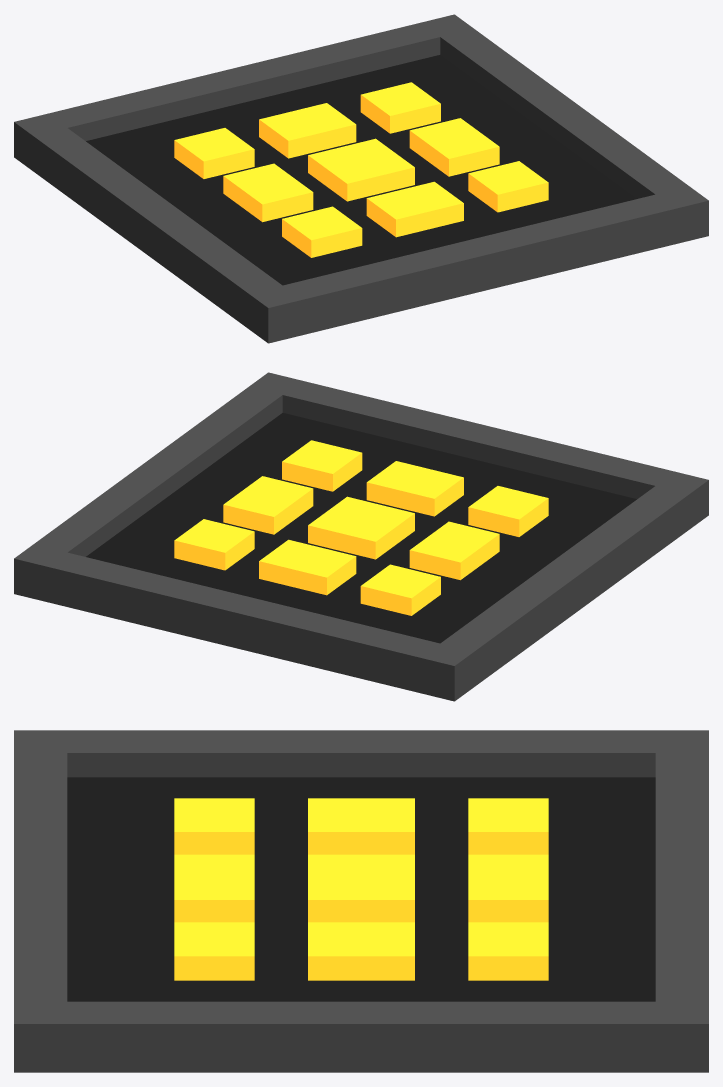
Rendered from trap_DOTS_ORANGE.glb.
3 views of the same model, one above another, from view 1: azimuth 30°, elevation 25°; view 2: azimuth 150°, elevation 25°; view 3: azimuth 270°, elevation 25° (orthographic). The views are drawn at different scales.
Visible parts, largest first — view 1: item_TRAP_DOTS_ORANGE; view 2: item_TRAP_DOTS_ORANGE; view 3: item_TRAP_DOTS_ORANGE.
Part boxes in pixels (x1,y1,x2,y2): item_TRAP_DOTS_ORANGE: (14,14,708,343); item_TRAP_DOTS_ORANGE: (14,372,708,701); item_TRAP_DOTS_ORANGE: (14,730,708,1072).
Bounding box in the file's own units: 0.5909 × 0.0455 × 0.5909.
1 material, 1 textured.
